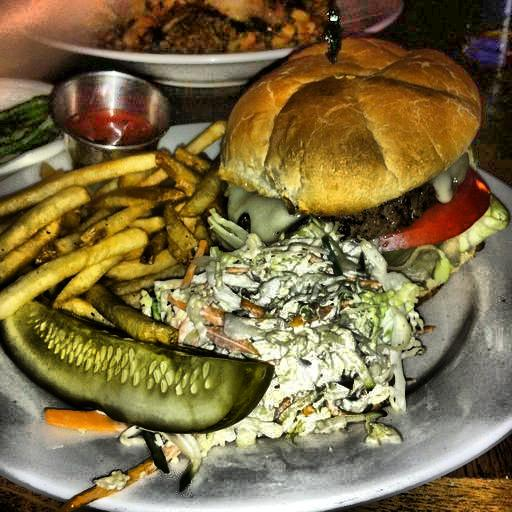burger: (221, 39, 507, 283)
